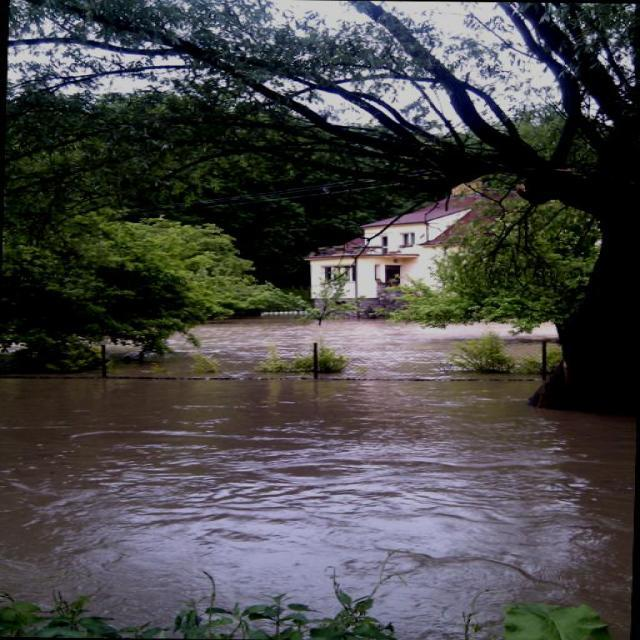flood: (0, 300, 639, 637)
